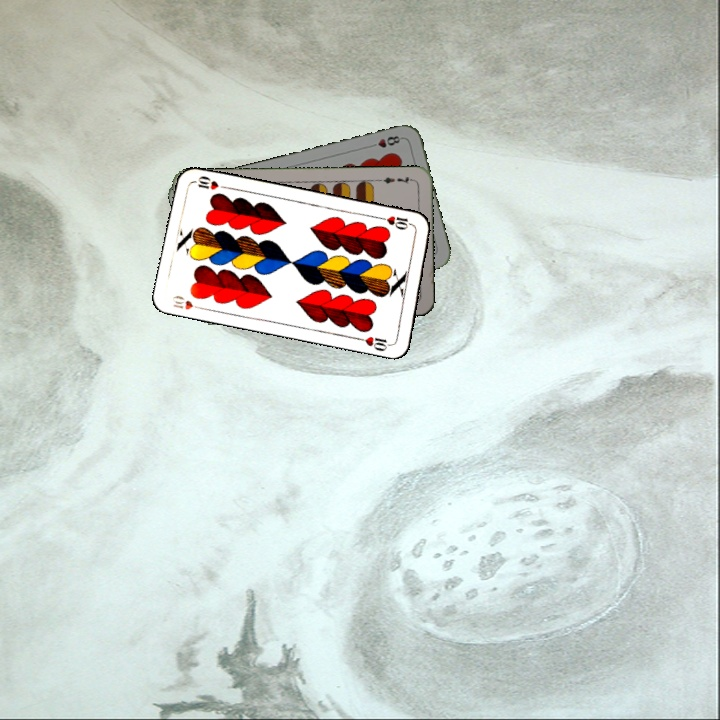E7: (376, 172, 416, 186)
H10: (168, 291, 207, 312), (376, 212, 416, 232)
H8: (365, 132, 405, 150)
